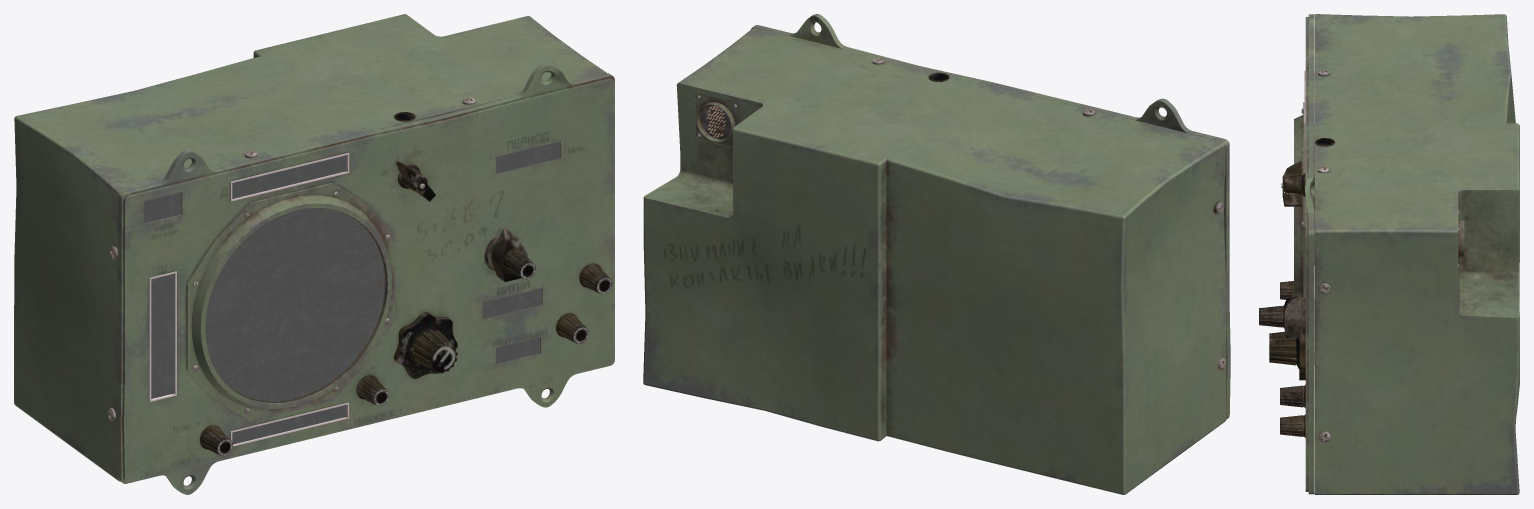
The model's file is vintage_spacecraft_instrument.glb.
3 views of the same model, side by side, from view 1: azimuth 30°, elevation 25°; view 2: azimuth 150°, elevation 25°; view 3: azimuth 270°, elevation 25° (orthographic). The views are drawn at different scales.
Parts seen in each view (by area): view 1: vintage_spacecraft_instrument; view 2: vintage_spacecraft_instrument; view 3: vintage_spacecraft_instrument.
Part boxes in pixels (x1=…): vintage_spacecraft_instrument: x1=14, y1=14, x2=614, y2=494; vintage_spacecraft_instrument: x1=643, y1=14, x2=1230, y2=494; vintage_spacecraft_instrument: x1=1259, y1=14, x2=1519, y2=494.
Size of the model in its own units: 0.4103 by 0.2693 by 0.2044.
2 materials, 2 textured.
